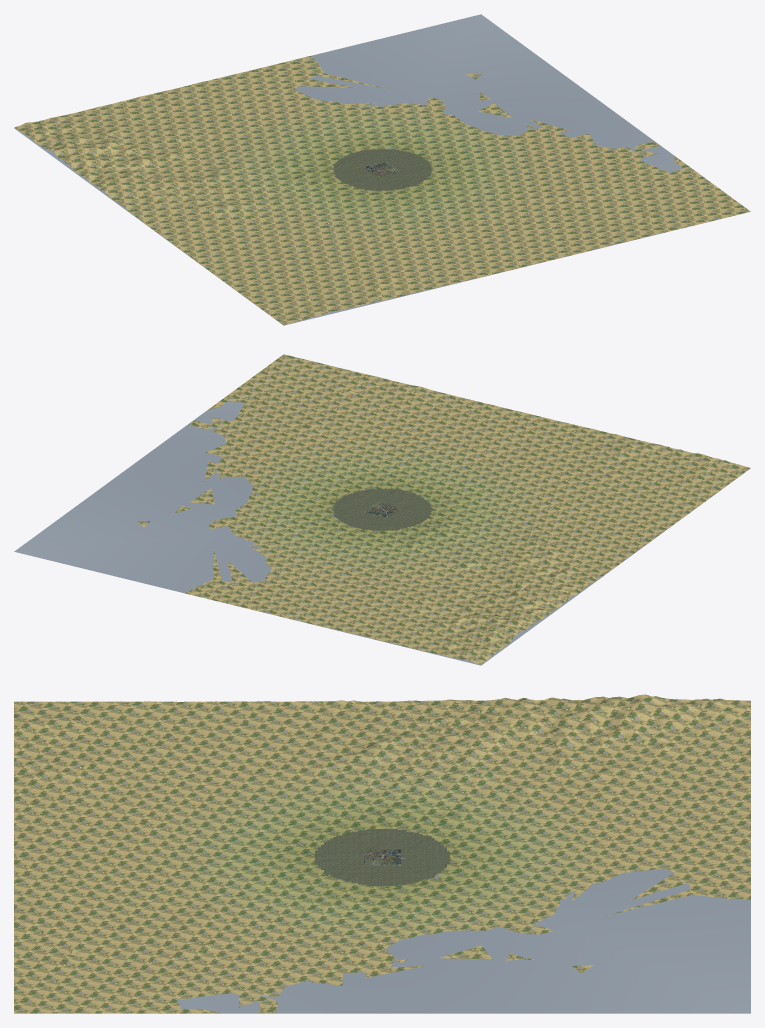
File: gabba_backdrop_part1.glb
3 renders of one model, top to bottom at view 1: azimuth 30°, elevation 25°; view 2: azimuth 150°, elevation 25°; view 3: azimuth 270°, elevation 25°, orthographic. The views are drawn at different scales.
Parts seen in each view (by area): view 1: bg_far_terrain, bg_far_water, bg_far_suburb; view 2: bg_far_terrain, bg_far_water, bg_far_suburb; view 3: bg_far_terrain, bg_far_water, bg_far_suburb, bg_near_ground.
Part boxes in pixels (x1,y1,x2,y2): bg_far_terrain: (14, 56, 750, 325); bg_far_water: (14, 14, 683, 325); bg_far_suburb: (332, 148, 432, 191); bg_far_terrain: (136, 354, 750, 664); bg_far_water: (14, 400, 750, 665); bg_far_suburb: (332, 488, 432, 531); bg_far_terrain: (14, 694, 750, 1013); bg_far_water: (14, 828, 750, 1013); bg_far_suburb: (315, 828, 449, 886); bg_near_ground: (364, 849, 400, 865).
Size of the model in its own units: 60006 by 770 by 60002.
Materials: 32 (22 with a texture image).
